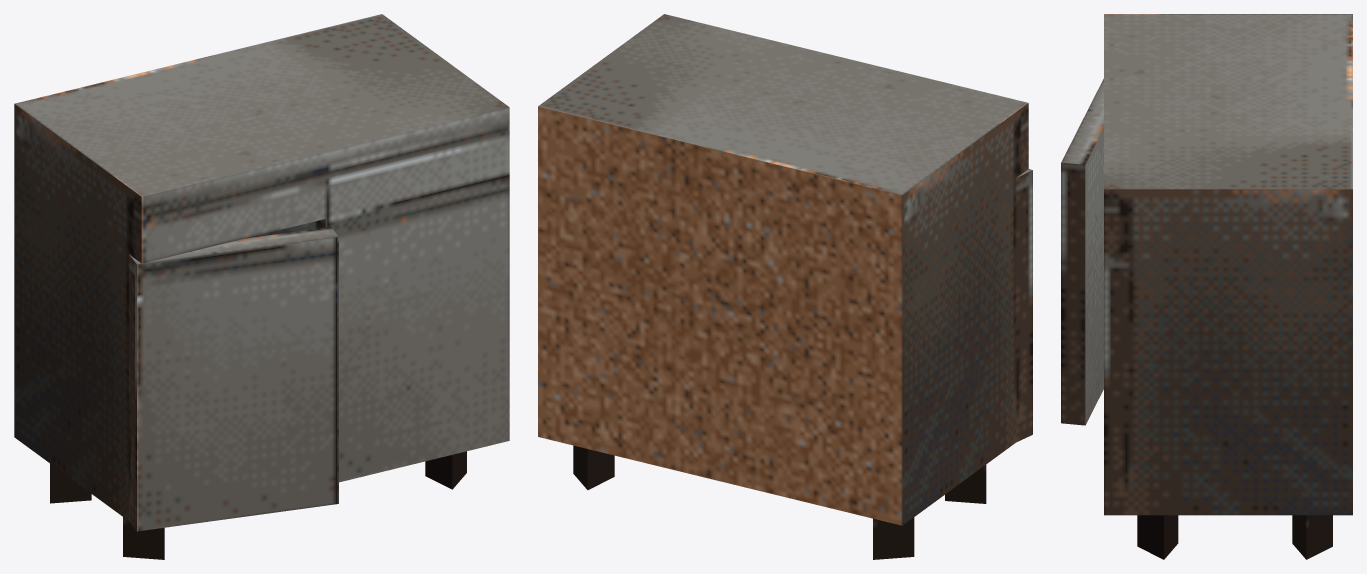
Rendered from kitchen_table2.fbx.
The picture shows the model from 3 angles, left to right: view 1: azimuth 30°, elevation 25°; view 2: azimuth 150°, elevation 25°; view 3: azimuth 270°, elevation 25°; orthographic projection. The views are drawn at different scales.
Parts seen in each view (by area): view 1: Kitchen table 2; view 2: Kitchen table 2; view 3: Kitchen table 2.
Part boxes in pixels (x1=…): Kitchen table 2: x1=14, y1=14, x2=509, y2=559; Kitchen table 2: x1=538, y1=14, x2=1032, y2=559; Kitchen table 2: x1=1061, y1=14, x2=1352, y2=559.
Size of the model in its own units: 152 by 150 by 105.
Materials: 1 (1 with a texture image).
